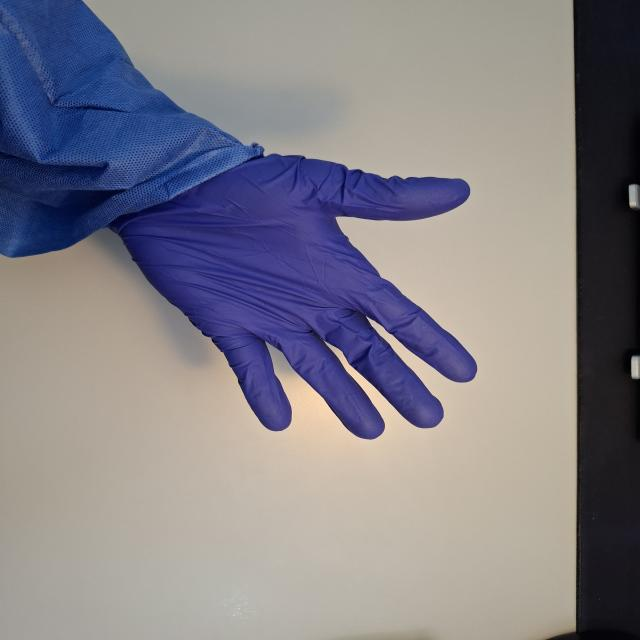glove_on: (101, 144, 482, 443)
